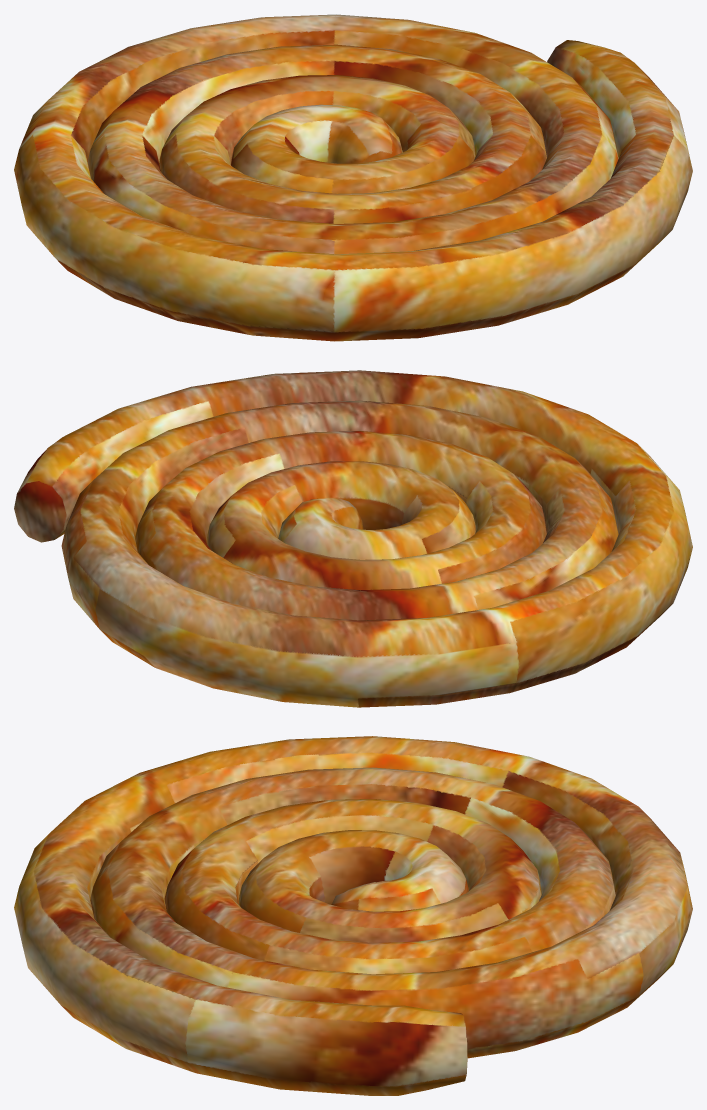
The model's file is banica.fbx.
The picture shows the model from 3 angles, top to bottom: view 1: azimuth 30°, elevation 25°; view 2: azimuth 150°, elevation 25°; view 3: azimuth 270°, elevation 25°; orthographic projection. The views are drawn at different scales.
Parts seen in each view (by area): view 1: Spiral; view 2: Spiral; view 3: Spiral.
Boxes of the visible parts, left/top/right/bottom form: Spiral: left=14, top=14, right=692, bottom=341; Spiral: left=14, top=370, right=692, bottom=707; Spiral: left=14, top=736, right=692, bottom=1095.
Bounding box in the file's own units: 71.93 × 9.45 × 68.25.
